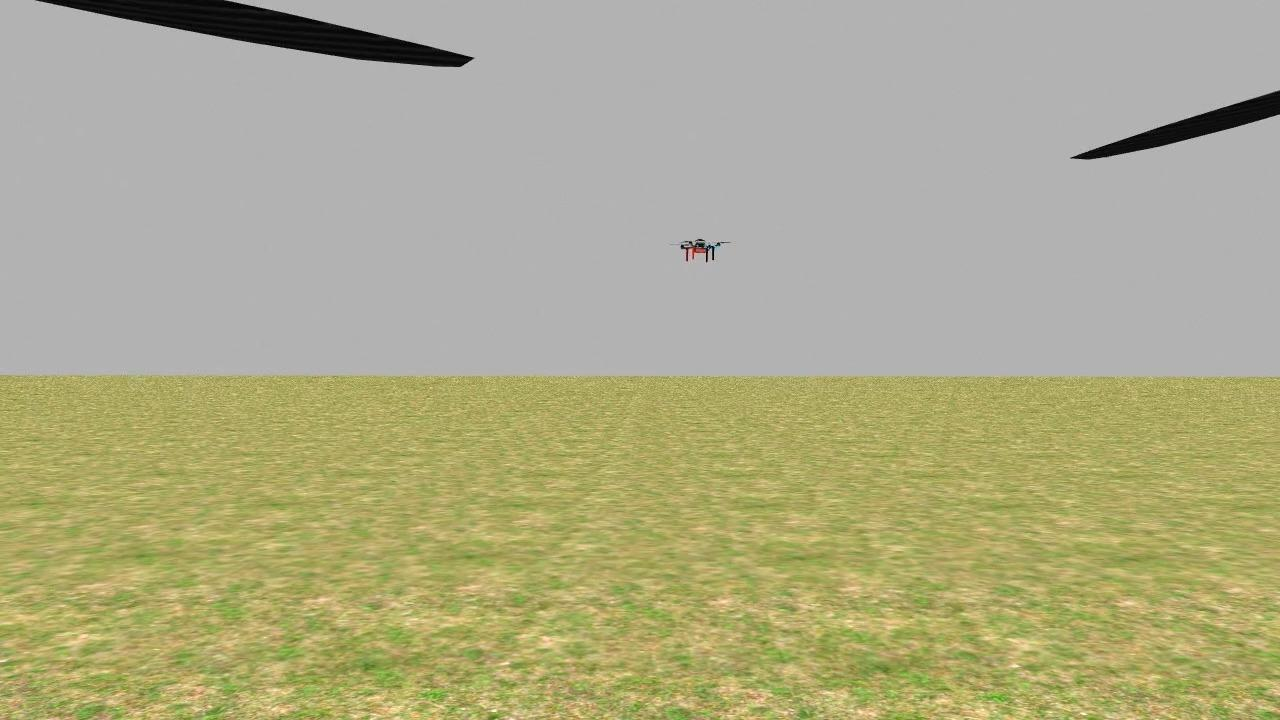UAV: (663, 221, 739, 271)
